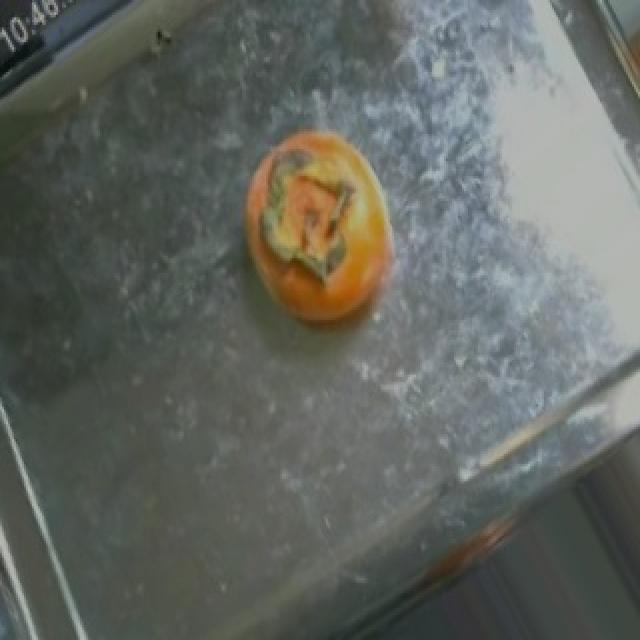Fruit: (216, 112, 428, 350), (586, 414, 640, 640), (592, 0, 640, 176)
